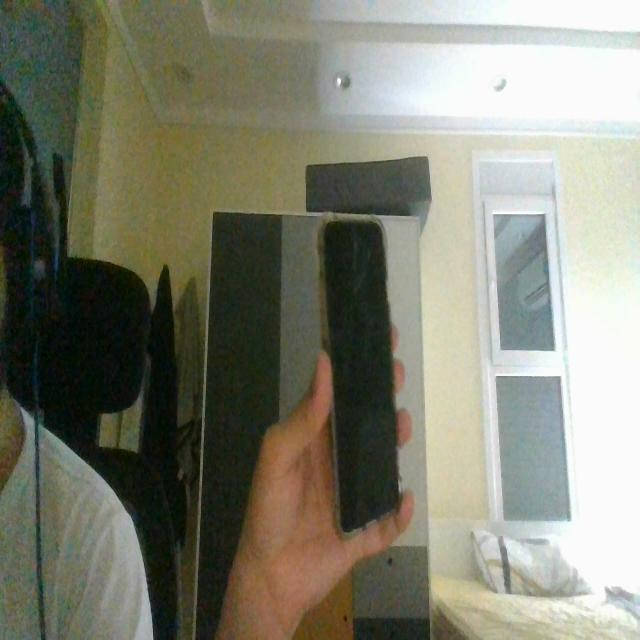Phone: (316, 219, 406, 537)
